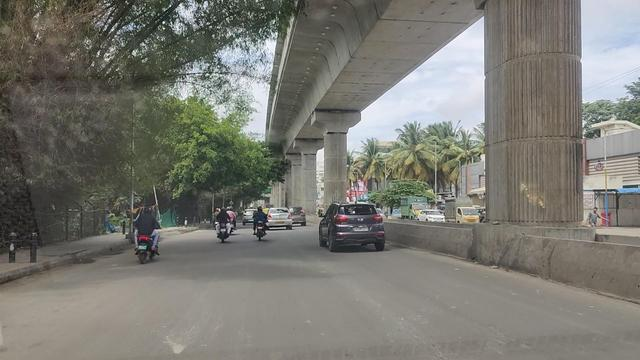LMV: (319, 197, 387, 254), (131, 196, 161, 271), (253, 205, 273, 246), (215, 207, 231, 247)
